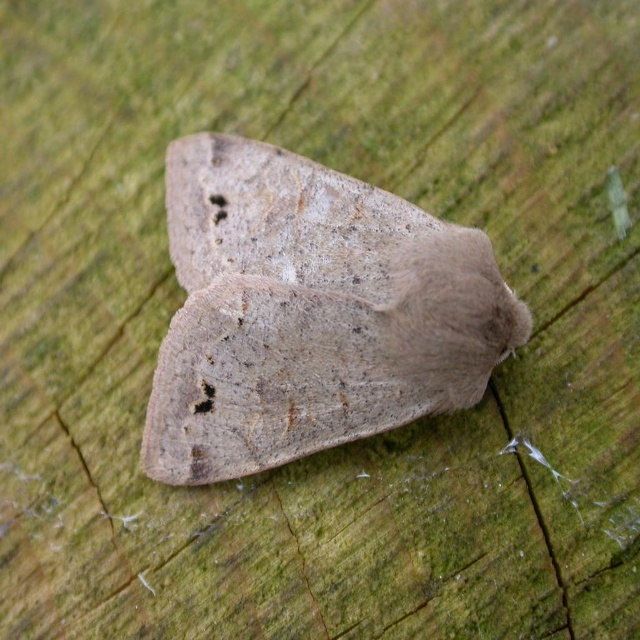Moths and butterflies: (136, 131, 534, 492)
